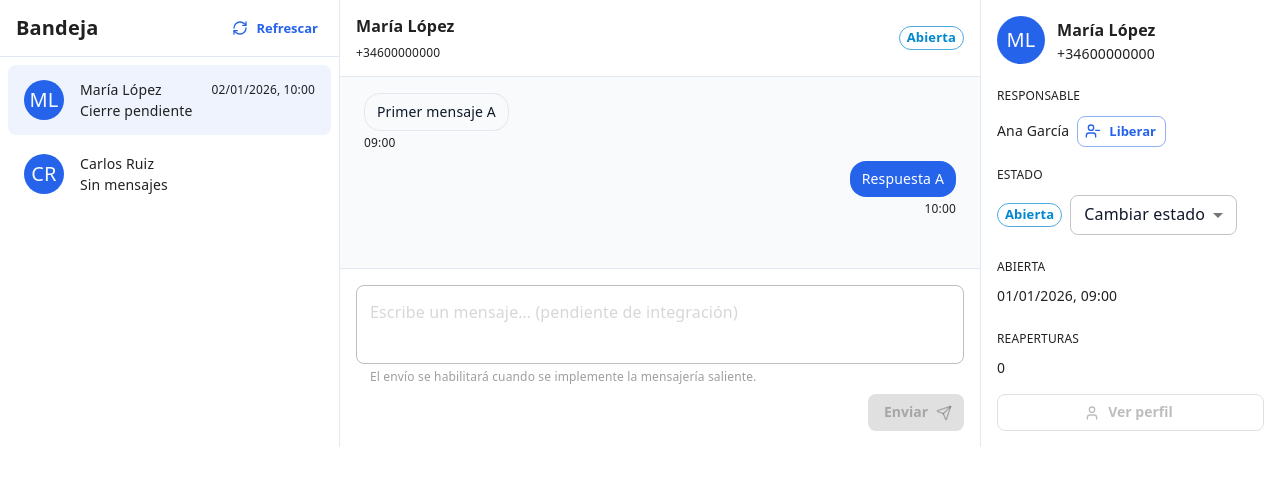
Scenario: InboxPage › seleccionar otra conversación carga su detalle y mensajes
Expected: the text "Primer mensaje A" is shown, [377, 102, 496, 122]
Click the button "CR Carlos Ruiz Sin mensajes": (96, 174) [24, 154, 168, 194]
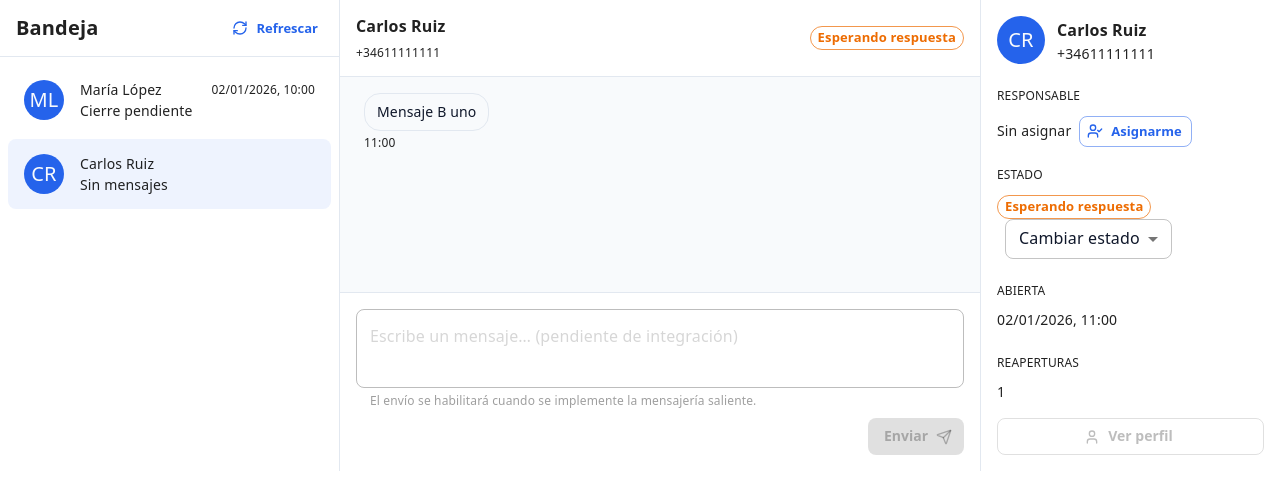
Now the text "Mensaje B uno" is shown, box [377, 102, 476, 122]
Now the text "Primer mensaje A" is gone
Now the 1st text "+34611111111" is shown, box [356, 44, 440, 61]
